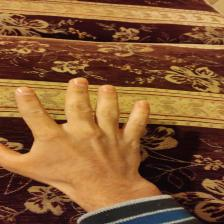four: (10, 82, 164, 183)
